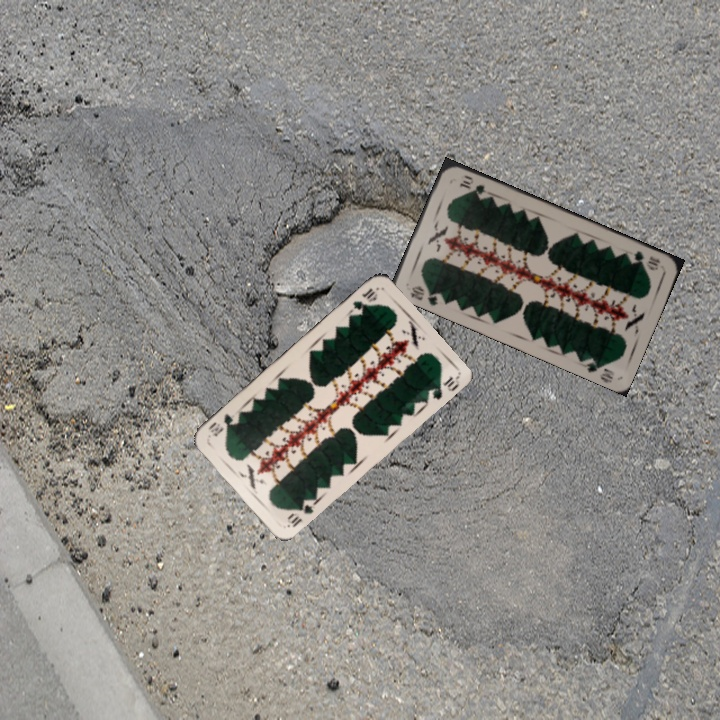G10: (283, 495, 316, 530), (406, 282, 446, 308), (349, 284, 380, 313), (629, 247, 663, 273)
